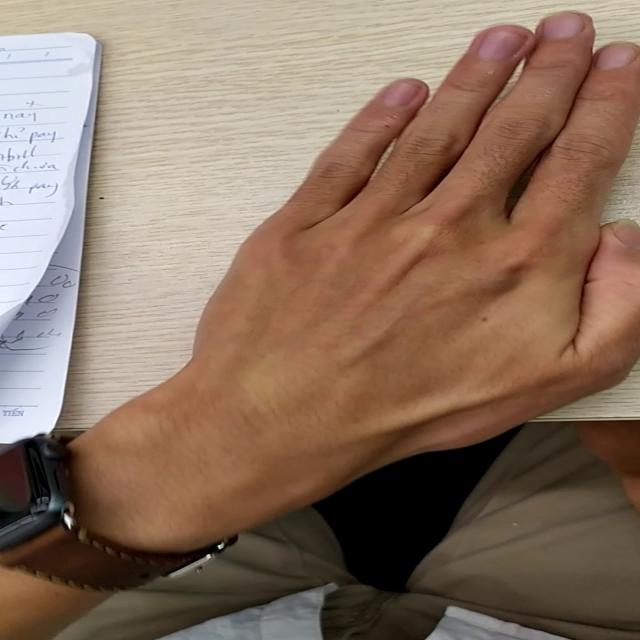hand: (229, 15, 640, 466)
